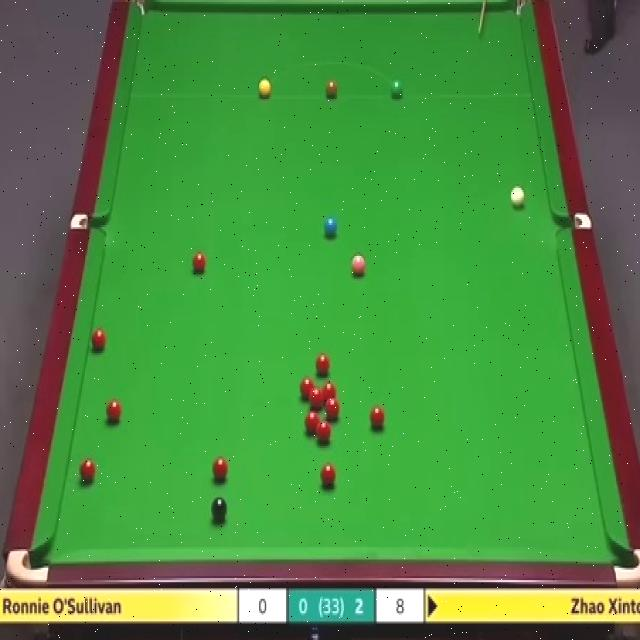black-ball: (211, 496, 230, 520)
blue-ball: (323, 214, 338, 240)
brown-ball: (325, 78, 338, 98)
green-ball: (390, 79, 404, 98)
pink-ball: (351, 256, 366, 278)
red-ball: (89, 328, 109, 354), (103, 396, 121, 423), (320, 462, 338, 489), (78, 459, 96, 485), (299, 374, 316, 400), (368, 406, 386, 430), (212, 456, 230, 480), (314, 353, 332, 375), (304, 410, 320, 434), (324, 408, 341, 430), (308, 388, 325, 409), (322, 383, 337, 406), (318, 398, 332, 416), (192, 254, 206, 272)
white-ball: (509, 185, 525, 208)
yellow-ball: (258, 78, 272, 98)
